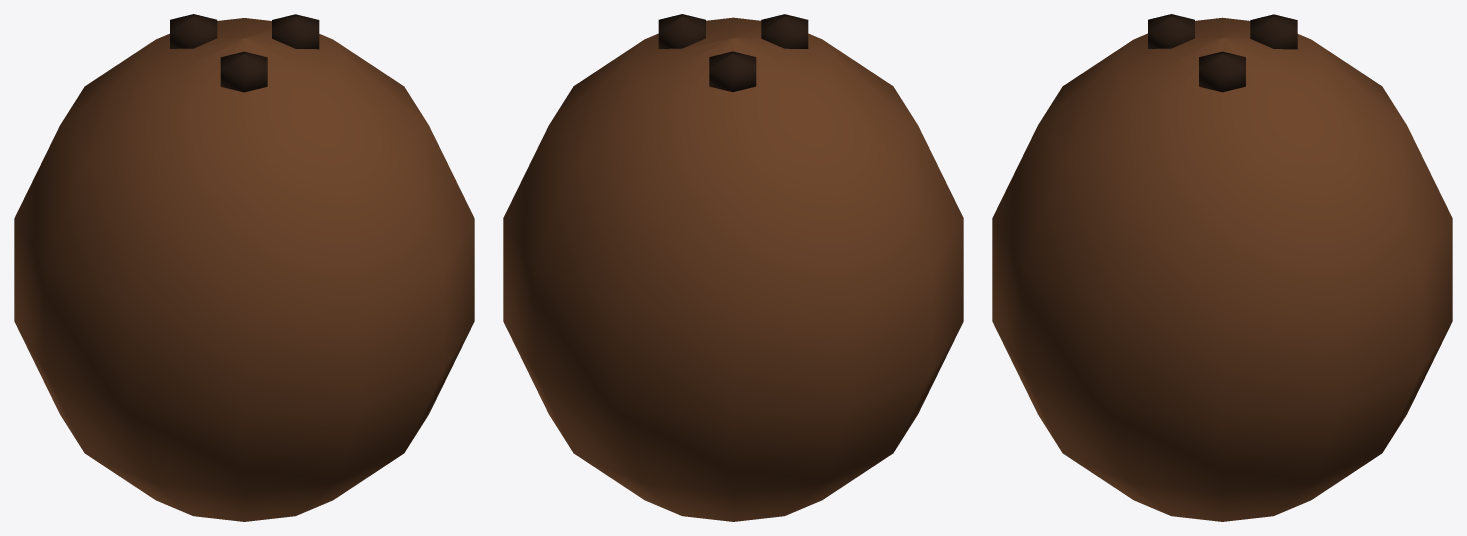
Rendered from coconut.glb.
3 views of the same model, side by side, from view 1: azimuth 30°, elevation 25°; view 2: azimuth 150°, elevation 25°; view 3: azimuth 270°, elevation 25° (orthographic).
Parts seen in each view (by area): view 1: coconut; view 2: coconut; view 3: coconut.
Boxes of the visible parts, x1=… form: coconut: x1=14, y1=14, x2=474, y2=521; coconut: x1=503, y1=14, x2=963, y2=521; coconut: x1=992, y1=14, x2=1452, y2=521.
Bounding box in the file's own units: 0.234 × 0.265 × 0.234.
